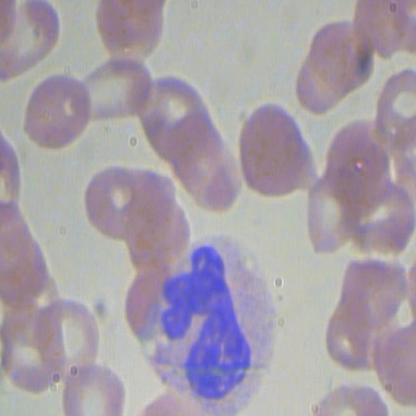RBC: (236, 101, 318, 199), (73, 51, 159, 124), (24, 69, 92, 151), (0, 0, 63, 81), (57, 360, 127, 416)
WBC: (131, 229, 285, 415)
